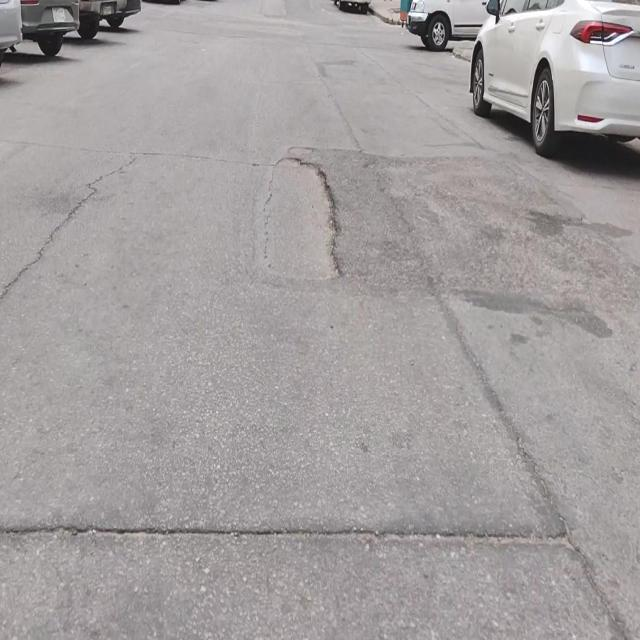Potholes: (261, 154, 344, 283)
